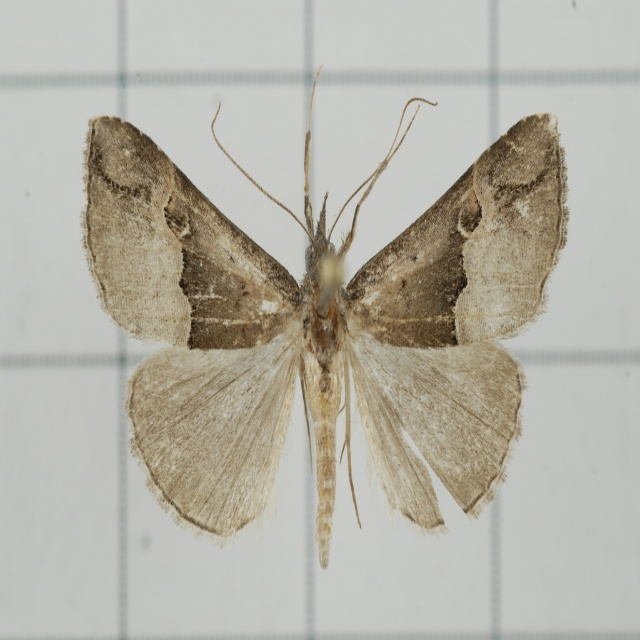Moths and butterflies: (79, 67, 571, 570)
